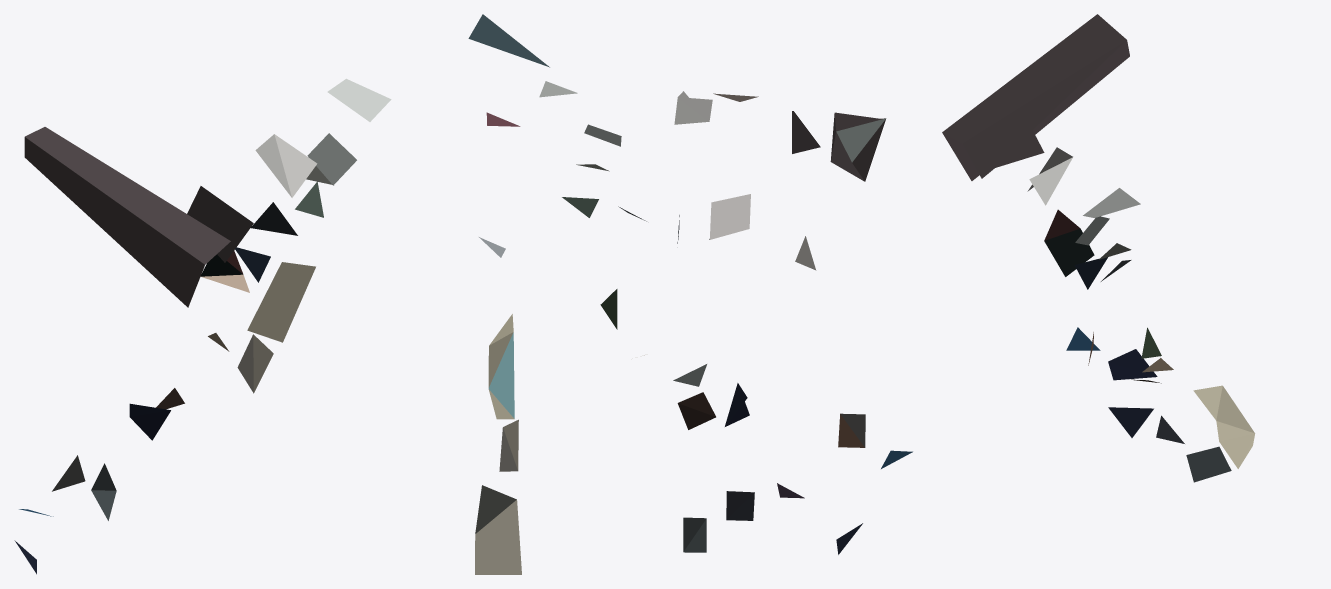
The picture shows the model from 3 angles, left to right: view 1: azimuth 30°, elevation 25°; view 2: azimuth 150°, elevation 25°; view 3: azimuth 270°, elevation 25°; orthographic projection. The views are drawn at different scales.
Size of the model in its own units: 257 by 269 by 209.
